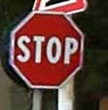stop: (8, 8, 84, 88)
